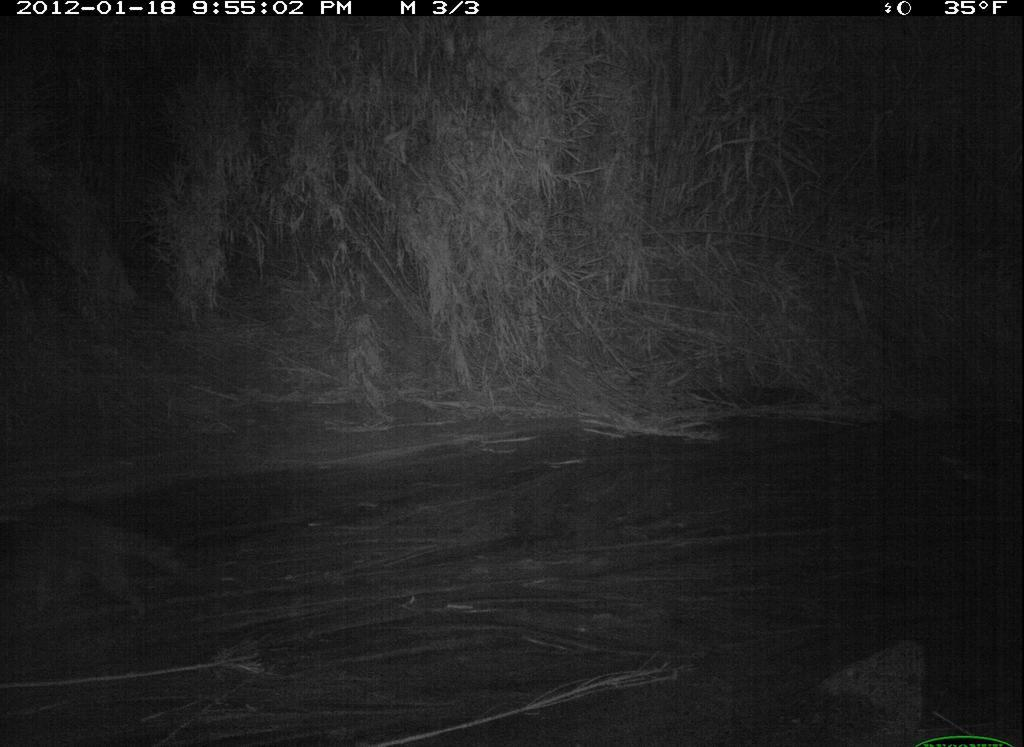raccoon: (1, 484, 203, 634)
